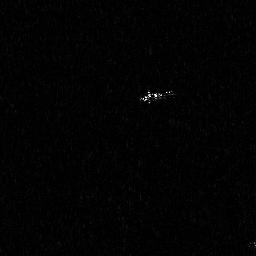ship: (139, 88, 178, 106)
